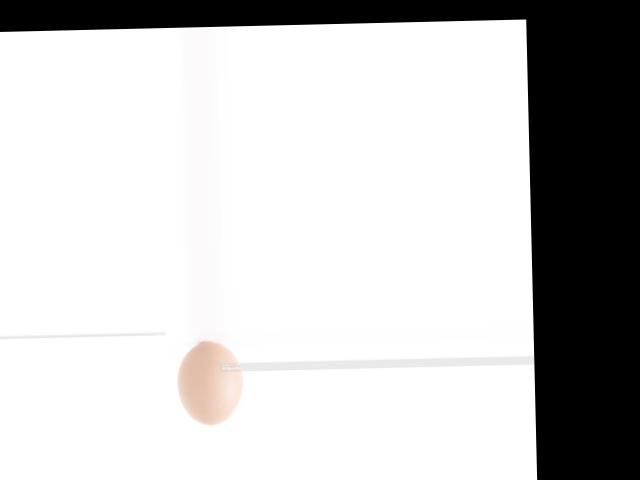egg: (177, 342, 244, 425)
